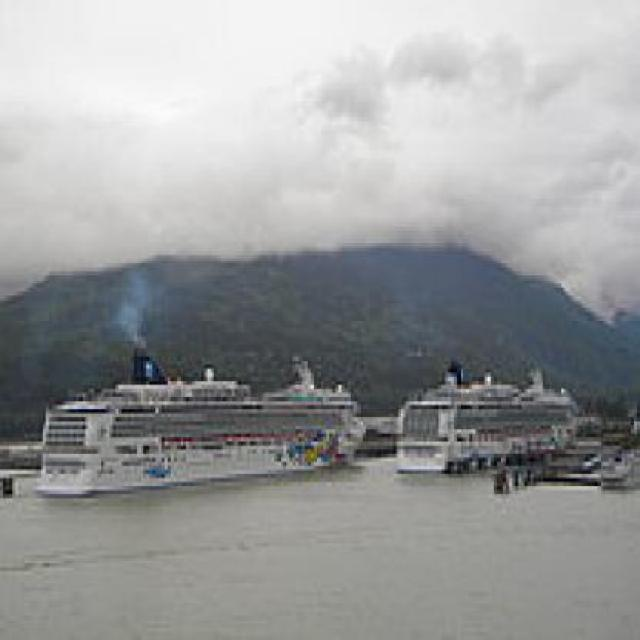cruise: (28, 341, 379, 507), (389, 357, 595, 496)
